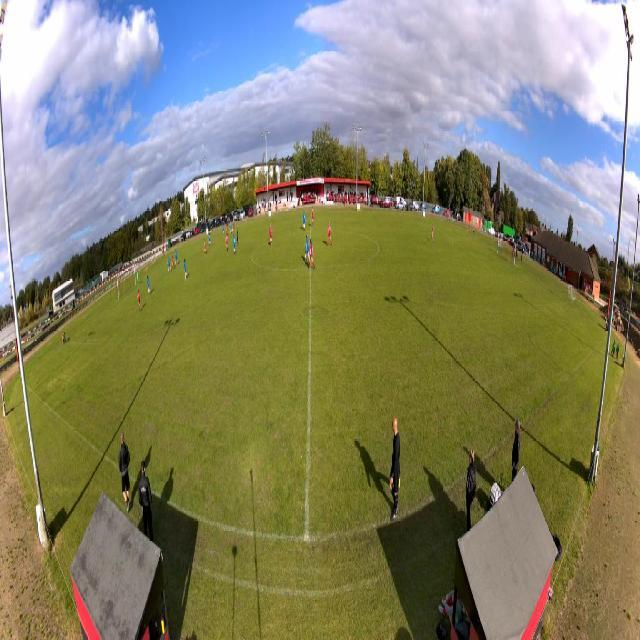ball: (182, 230, 184, 234)
player: (308, 238, 315, 270), (304, 235, 310, 266), (326, 221, 332, 247), (268, 224, 274, 246), (137, 288, 141, 312), (167, 255, 172, 274), (232, 233, 236, 255), (184, 258, 188, 280), (302, 210, 306, 231), (147, 275, 151, 296), (311, 207, 315, 227), (431, 223, 435, 243), (175, 247, 179, 266), (204, 238, 208, 256), (208, 231, 212, 247), (236, 227, 239, 248), (225, 232, 228, 251), (229, 220, 233, 234), (171, 255, 175, 269), (226, 222, 229, 236), (222, 223, 225, 235), (137, 269, 139, 286), (233, 220, 235, 230)
